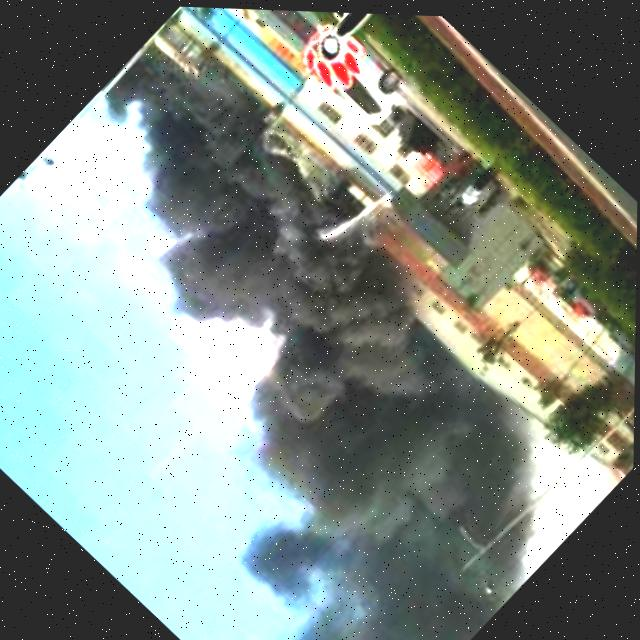Smoke: (137, 126, 395, 390), (246, 412, 531, 640), (354, 326, 590, 558), (222, 270, 439, 501), (77, 35, 272, 234), (219, 588, 413, 640)
